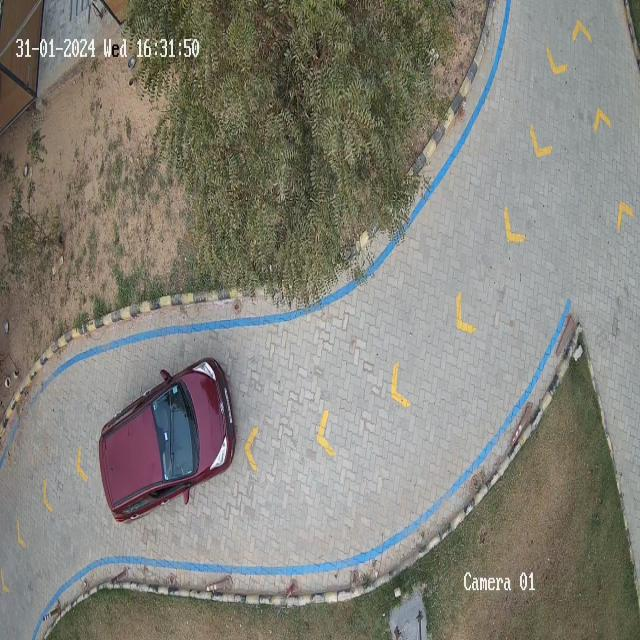car: (97, 353, 237, 524)
